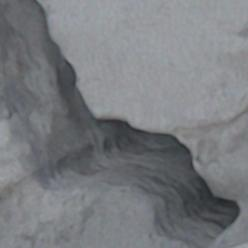brick: (233, 243, 247, 247)
broken_brick: (40, 0, 247, 132), (0, 120, 34, 192)
crack: (0, 0, 247, 247)
